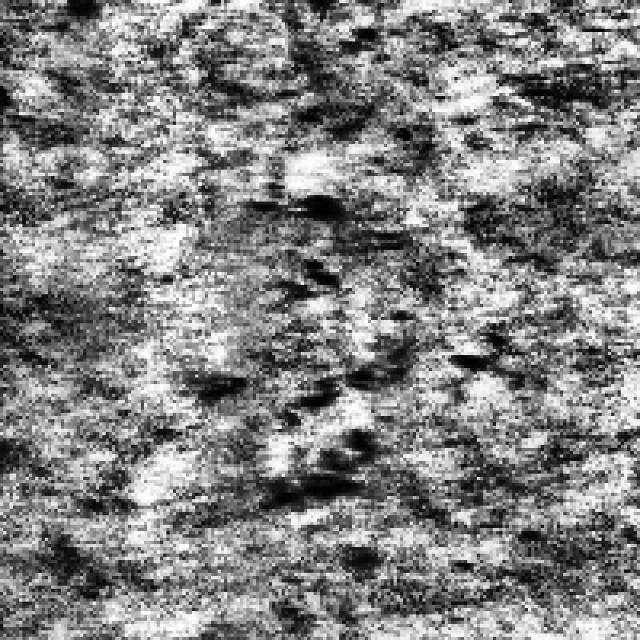Crazing: (224, 138, 432, 586)
